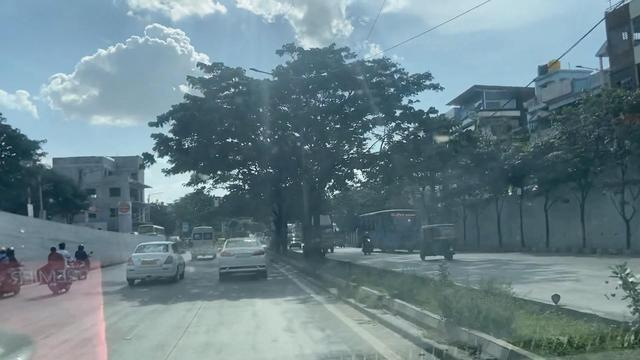HMV: (192, 225, 208, 272)
LMV: (0, 241, 28, 315), (128, 245, 178, 280), (221, 242, 267, 274), (48, 239, 70, 299), (72, 246, 98, 280)
